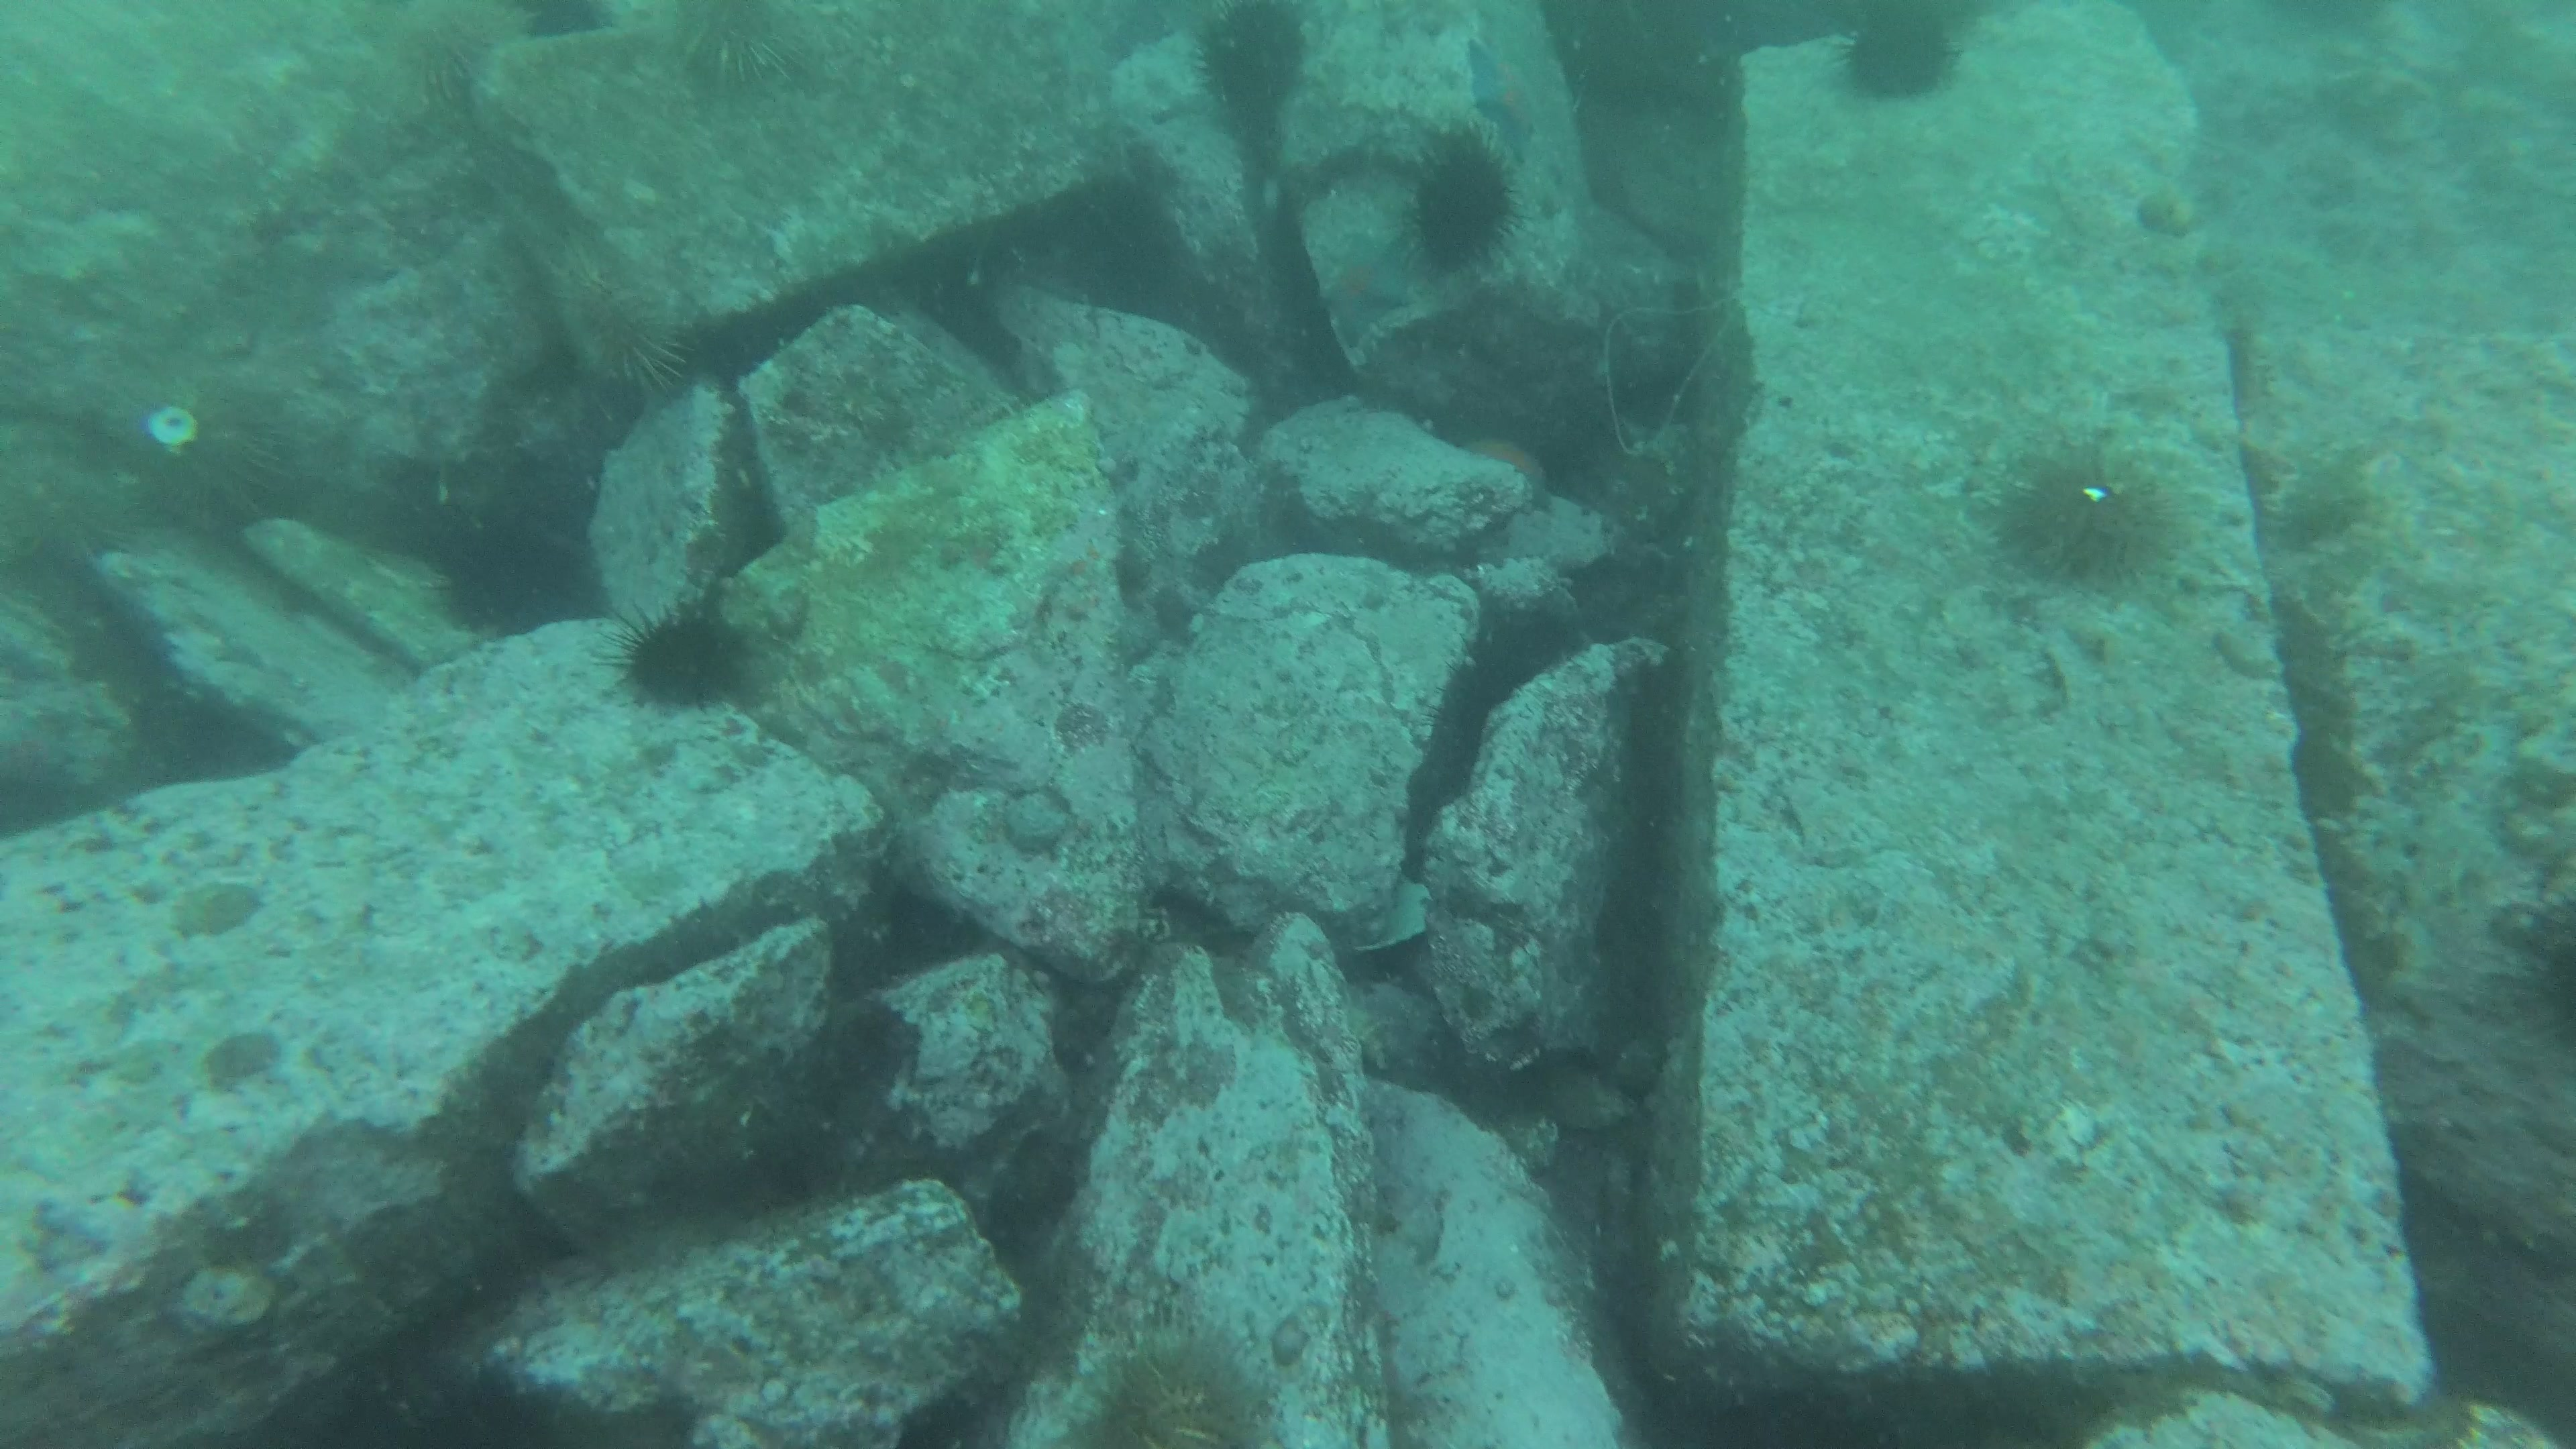echinus: (126, 391, 320, 522), (2022, 428, 2181, 580), (1090, 1332, 1276, 1449), (561, 257, 694, 387), (1407, 111, 1522, 258), (602, 619, 771, 711), (1203, 11, 1318, 129), (674, 11, 824, 88), (1838, 18, 1966, 96)
